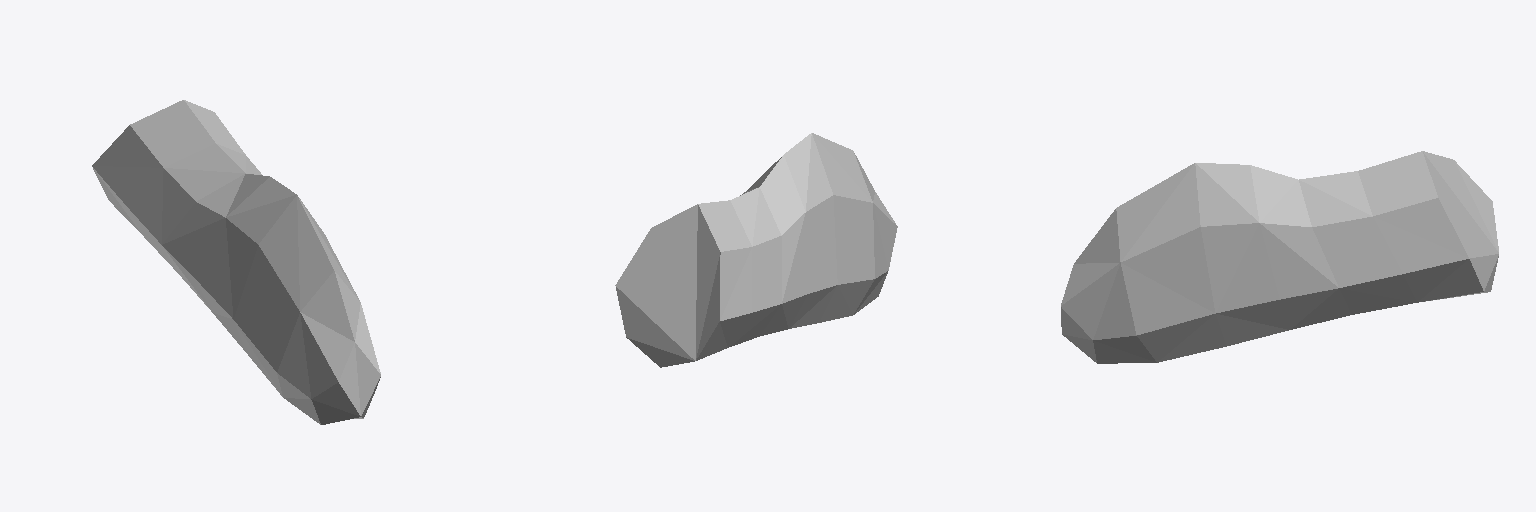
Rendered from cat_model right hand.obj.
3 renders of one model, left to right at view 1: azimuth 30°, elevation 25°; view 2: azimuth 150°, elevation 25°; view 3: azimuth 270°, elevation 25°, orthographic.
Visible parts, largest first — view 1: Plane.002; view 2: Plane.002; view 3: Plane.002.
Boxes of the visible parts, x1=… form: Plane.002: x1=92, y1=100, x2=380, y2=424; Plane.002: x1=615, y1=133, x2=897, y2=367; Plane.002: x1=1061, y1=151, x2=1498, y2=363.
Size of the model in its own units: 0.1748 by 0.3015 by 0.5737.